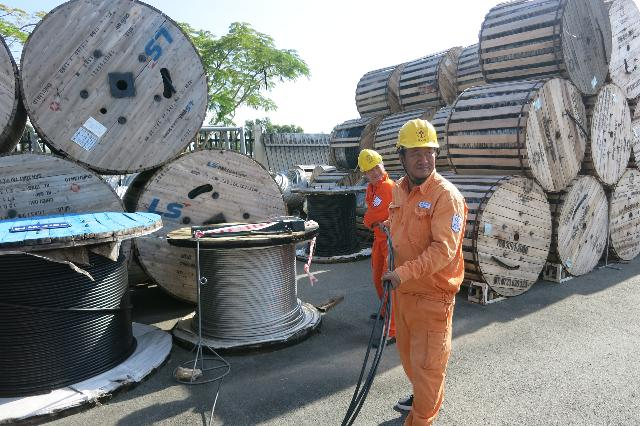helmet: (386, 119, 449, 154), (354, 144, 387, 178)
